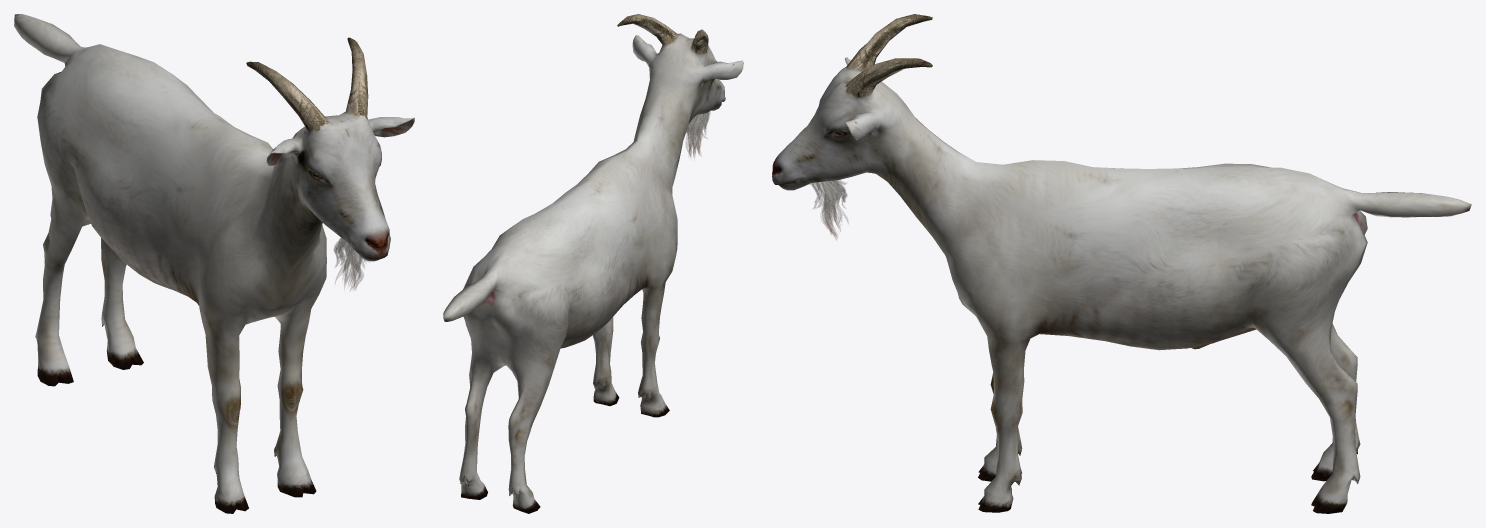
Rendered from Goat.fbx.
The picture shows the model from 3 angles, left to right: view 1: azimuth 30°, elevation 25°; view 2: azimuth 150°, elevation 25°; view 3: azimuth 270°, elevation 25°; orthographic projection. The views are drawn at different scales.
Parts seen in each view (by area): view 1: sm_4_0_0, sm_1_0_0, sm_3_0_0; view 2: sm_4_0_0, sm_1_0_0, sm_3_0_0; view 3: sm_4_0_0, sm_1_0_0, sm_3_0_0.
Boxes of the visible parts, x1,y1,x2,y2 form: sm_4_0_0: (14,14,326,513); sm_1_0_0: (246,37,414,261); sm_3_0_0: (333,238,368,290); sm_4_0_0: (443,91,690,513); sm_1_0_0: (617,14,743,123); sm_3_0_0: (685,111,710,157); sm_4_0_0: (887,117,1471,513); sm_1_0_0: (772,14,932,190); sm_3_0_0: (808,180,848,239).
Bounding box in the file's own units: 34.59 × 107 × 149.
Materials: 4 (4 with a texture image).
